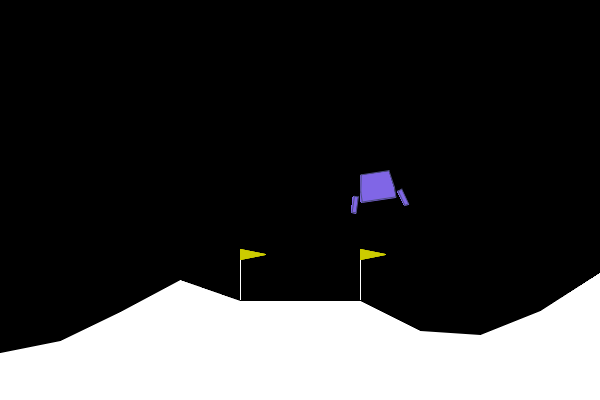lander: (345, 167, 410, 215)
